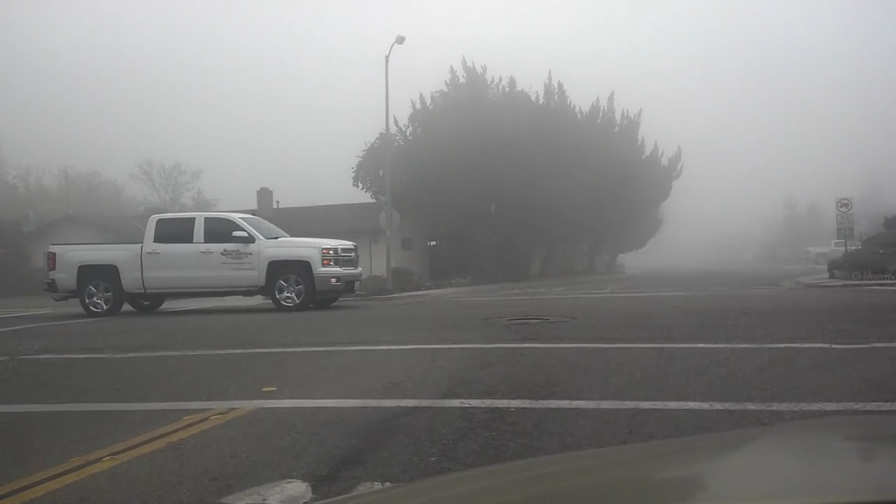car: (44, 210, 364, 317), (803, 237, 865, 269)
